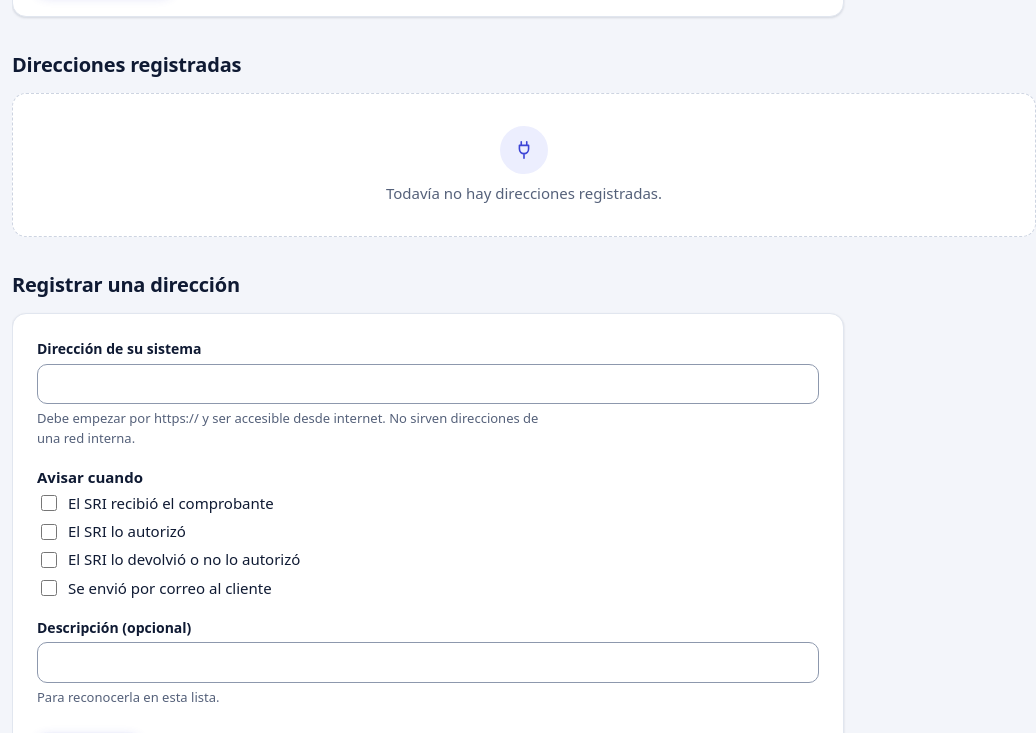
it: Integraciones › explains when the installation has notifications switched off or the limit is reached
The image size is (1036, 733).
(page scrolled)
Expected: the text "Todavía no hay direcciones registradas." is shown, [386,182,662,204]
Type "https://nuevo.example.com/x" into the field labelled "Dirección de su sistema".
click(428, 384); type("https://nuevo.example.com/x")  # box [37,364,819,404]
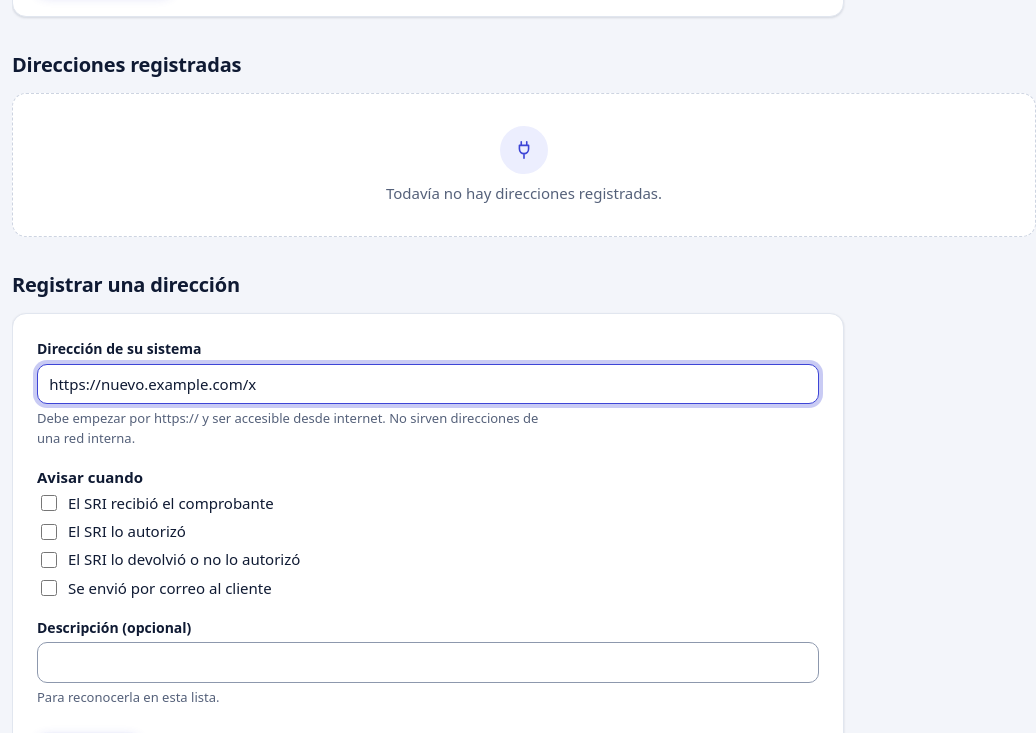
Click the checkbox labelled "El SRI lo autorizó".
click(49, 532)  # box [41,524,57,540]
(page scrolled)
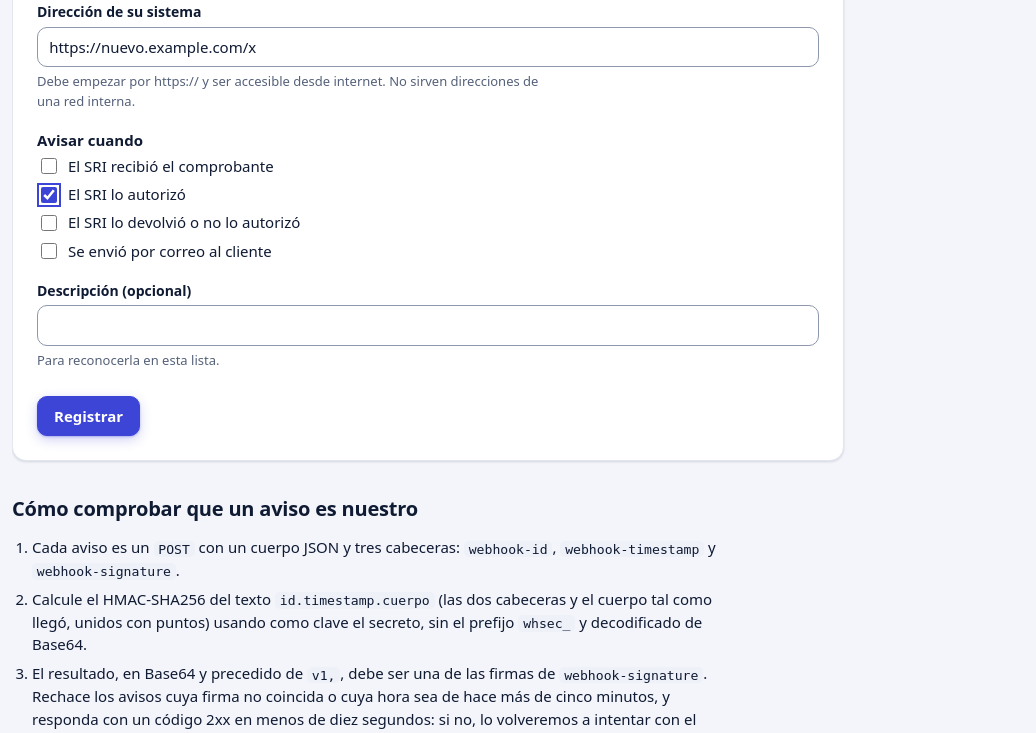
Click the button "Registrar".
click(89, 416)  # box [37,396,140,436]
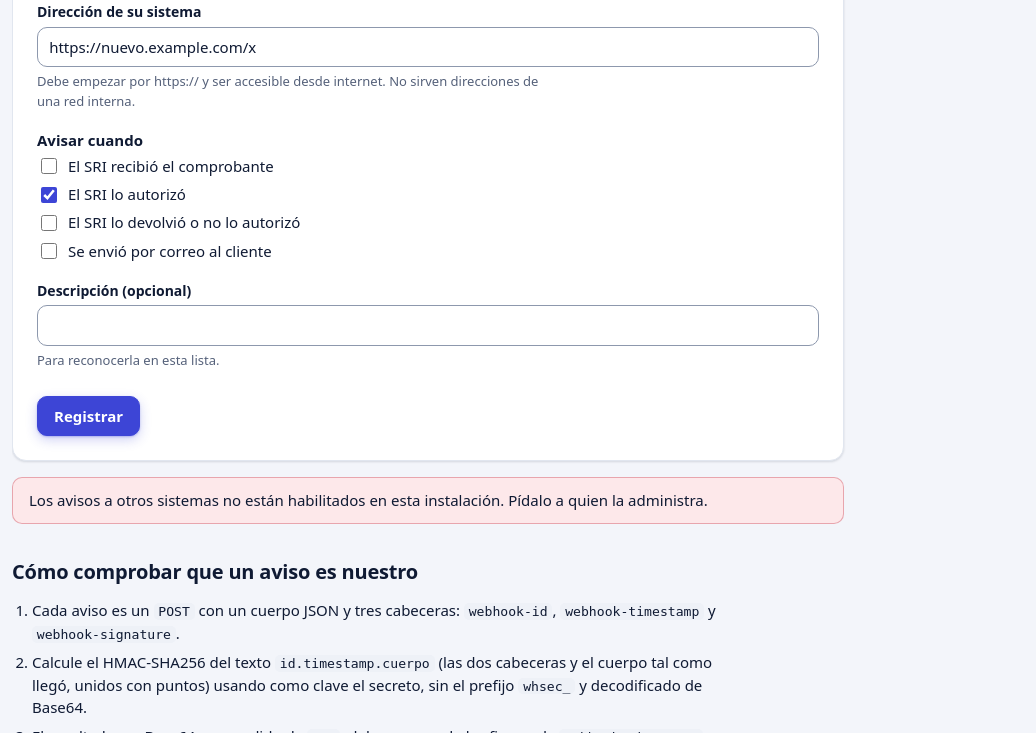
Now the text "no están habilitados en esta instalación" is shown, box [29,490,708,510]
Click the button "Registrar".
click(89, 416)  # box [37,396,140,436]
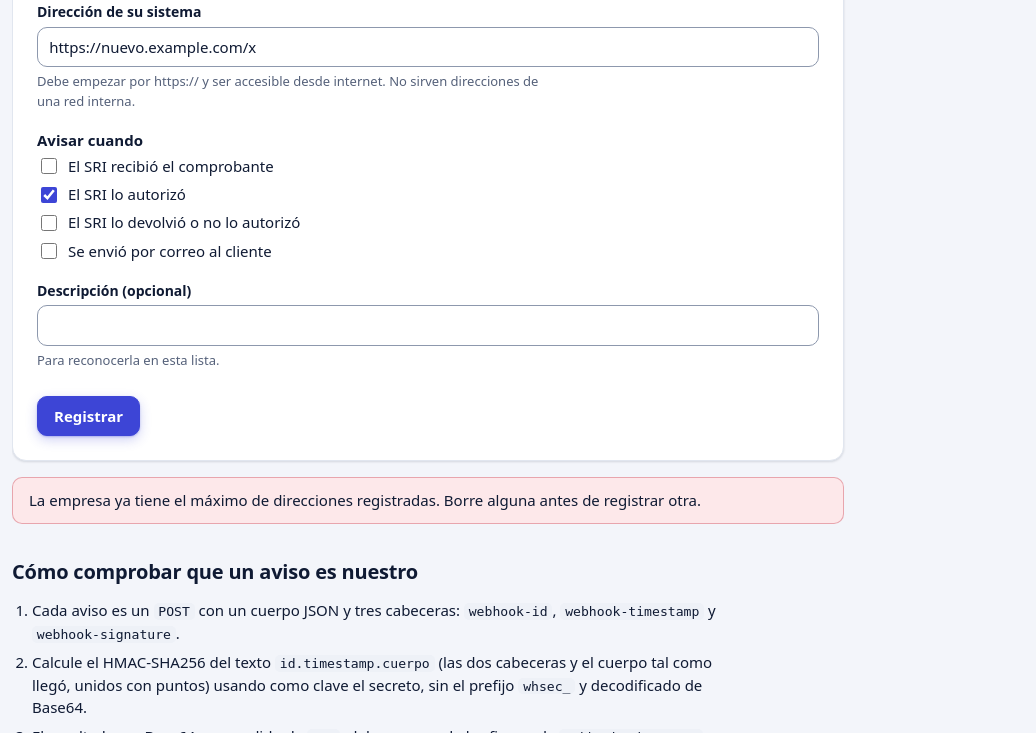
Now the text "máximo de direcciones" is shown, box [29,490,701,510]
